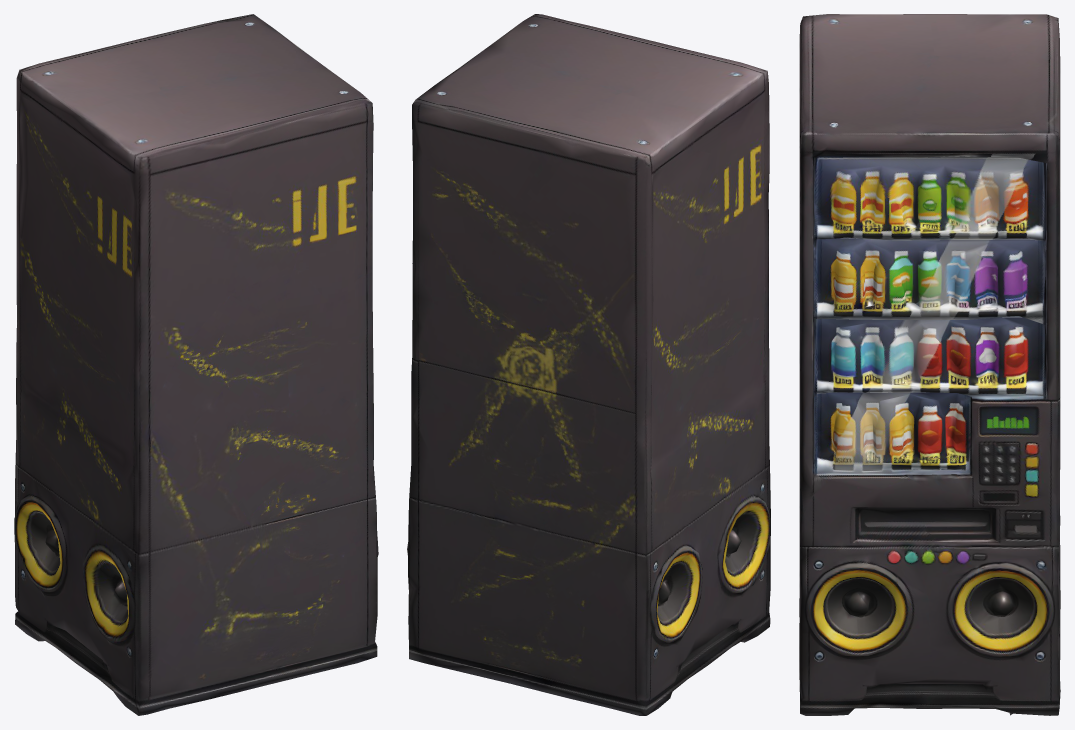
The model's file is Machine.fbx.
3 renders of one model, left to right at view 1: azimuth 30°, elevation 25°; view 2: azimuth 150°, elevation 25°; view 3: azimuth 270°, elevation 25°, orthographic. The views are drawn at different scales.
Visible parts, largest first — view 1: tripo_node_52e0d4e3; view 2: tripo_node_52e0d4e3; view 3: tripo_node_52e0d4e3.
Part boxes in pixels (box(x1,y1,x2,y2)): tripo_node_52e0d4e3: box(14, 14, 378, 715); tripo_node_52e0d4e3: box(407, 14, 770, 715); tripo_node_52e0d4e3: box(799, 14, 1060, 715).
Size of the model in its own units: 0.4649 by 1 by 0.4058.
1 material, 1 textured.
